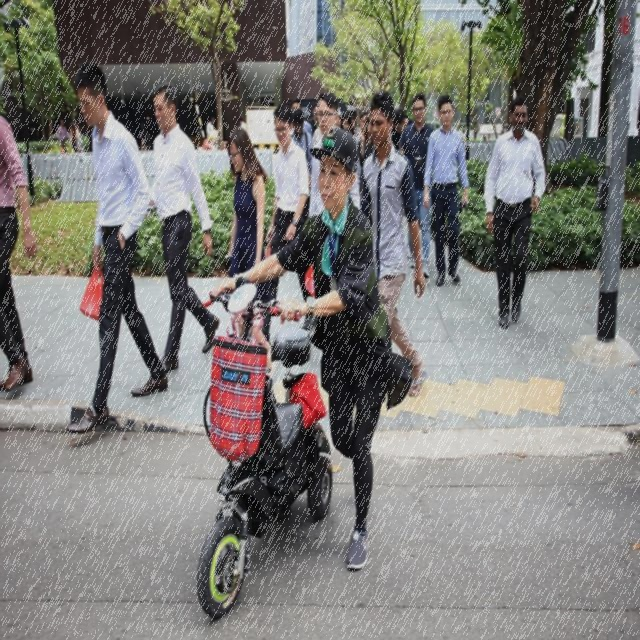pessoa: (208, 123, 418, 578), (59, 58, 171, 444), (352, 88, 428, 402), (149, 81, 220, 374), (482, 95, 548, 329), (0, 65, 41, 398), (262, 101, 318, 342), (422, 92, 470, 290), (224, 124, 273, 302), (307, 90, 363, 218), (398, 92, 436, 280), (288, 107, 313, 223), (334, 107, 374, 177), (390, 106, 416, 152), (291, 98, 313, 138), (306, 102, 320, 138), (57, 118, 71, 153), (461, 130, 492, 140), (138, 122, 148, 150), (142, 128, 152, 156), (70, 122, 78, 153), (74, 121, 82, 152), (206, 117, 216, 140), (238, 116, 248, 132), (214, 128, 218, 150)
